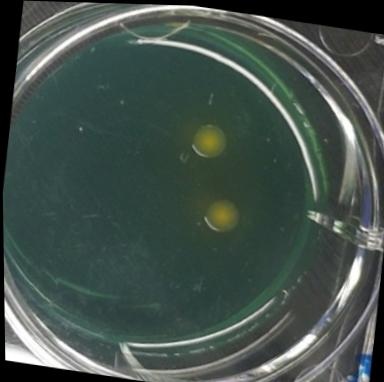vharveyi: (184, 114, 228, 161), (198, 190, 242, 237)
